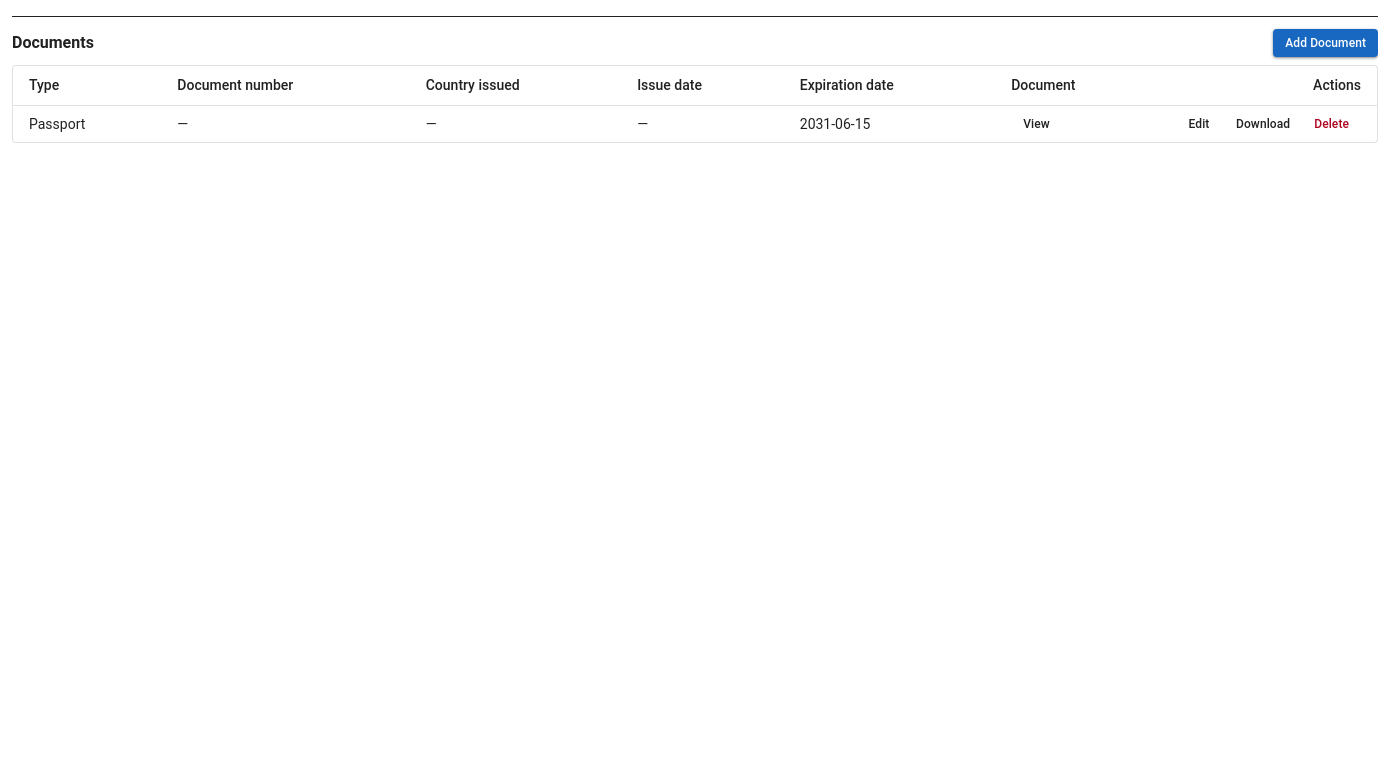
Test: Feature 97 — Document File Thumbnail in the Edit Document Dialog › US-97.1 — See the uploaded file while editing a document › A file that can't be previewed shows its name
Click the button "Edit" at (1199, 124), box [1174,110,1224,138]
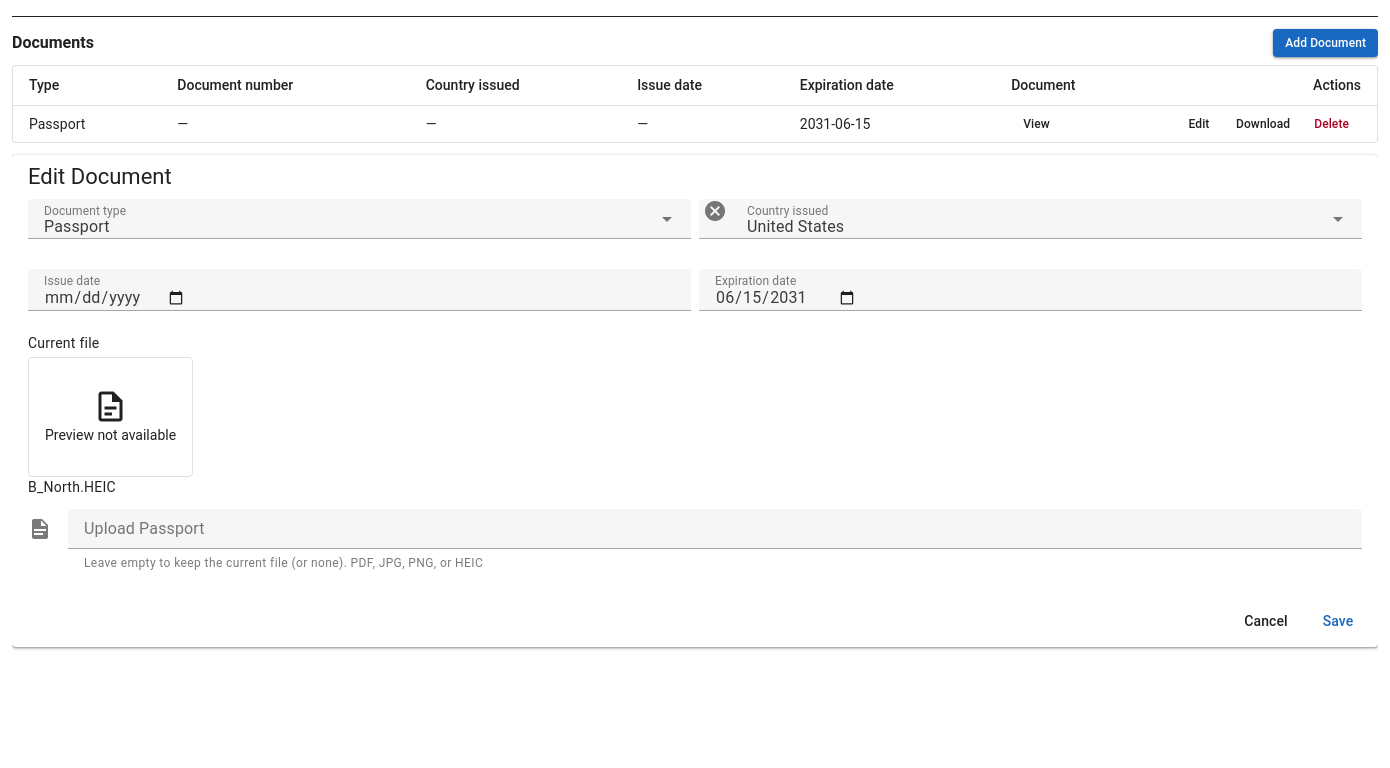
Expected: the element with test id "current-file" shows "Preview not available", [28,357,193,477]
Expected: the element with test id "current-file" shows "B_North.HEIC", [28,479,116,495]
